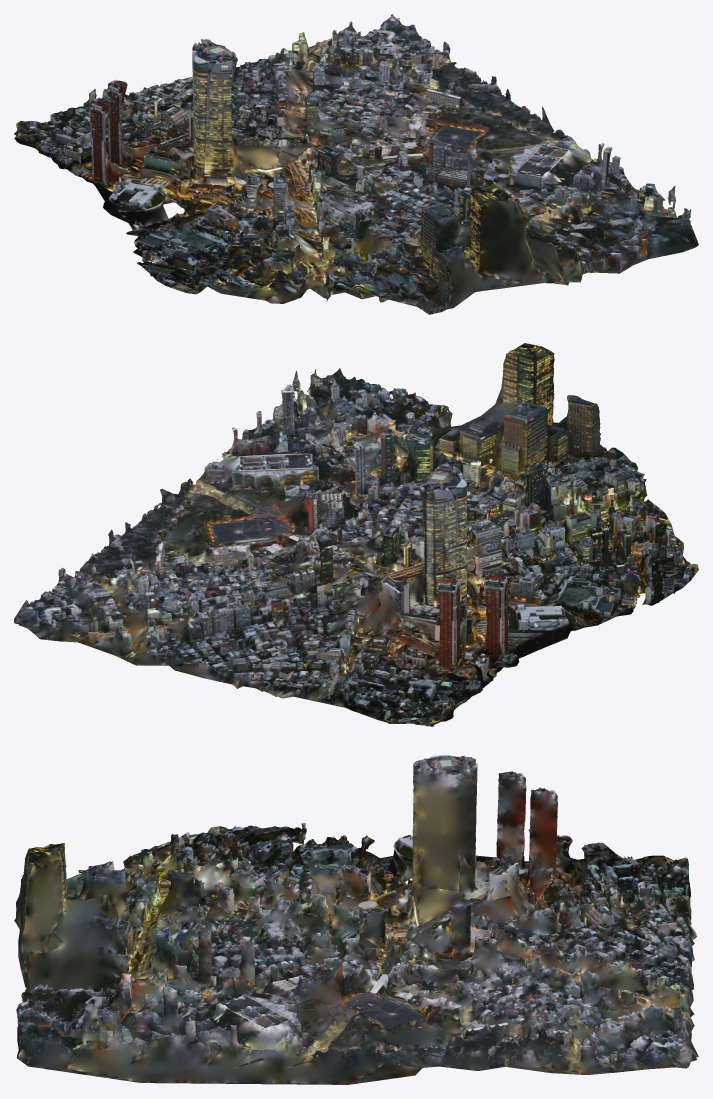
3 views of the same model, one above another, from view 1: azimuth 30°, elevation 25°; view 2: azimuth 150°, elevation 25°; view 3: azimuth 270°, elevation 25° (orthographic). The views are drawn at different scales.
Visible parts, largest first — view 1: meshNode; view 2: meshNode; view 3: meshNode.
Part boxes in pixels (x1,y1,x2,y2): meshNode: (14, 14, 698, 314); meshNode: (14, 343, 698, 726); meshNode: (14, 755, 698, 1084).
Bounding box in the file's own units: 49.04 × 16.78 × 58.84.
Materials: 1 (1 with a texture image).
